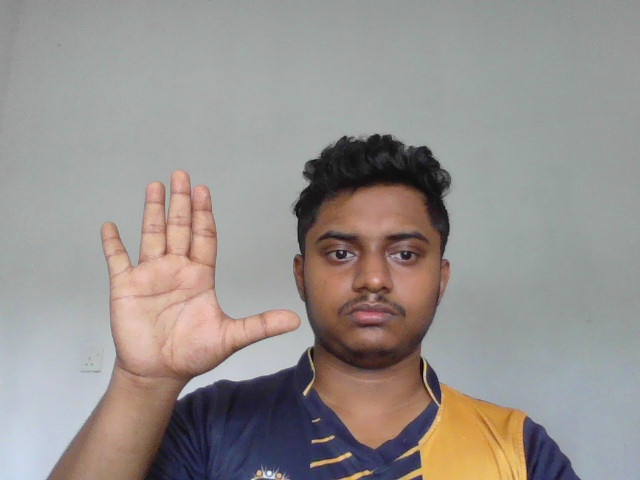Hello: (98, 168, 301, 384)
